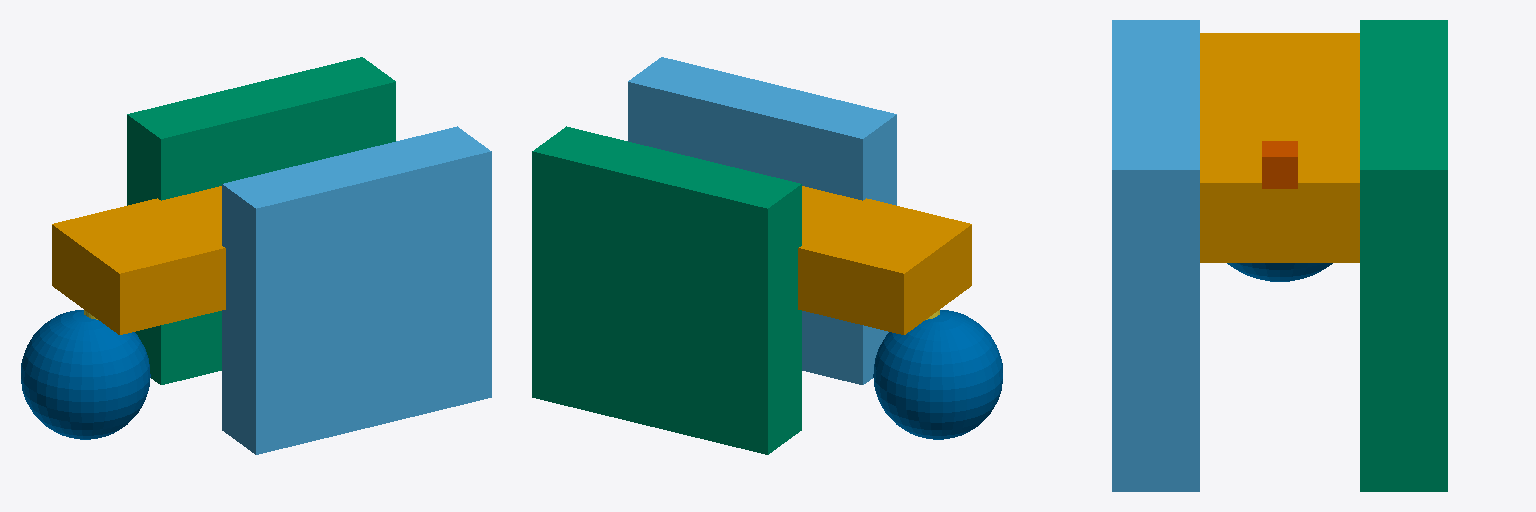
The robot description file, URDF, robot "drivebot":
<?xml version="1.0"?>
<robot name="drivebot">

  <link name="chassis">
    <visual>
      <geometry>
        <box size="1 0.5 0.25"/>
      </geometry>
      <origin rpy="0 0 0" xyz="0 0 0"/>
    </visual>
    <collision>
      <geometry>
        <box size="1 0.5 0.25"/>
      </geometry>
      <origin rpy="0 0 0" xyz="0 0 0"/>
    </collision>
    <inertial>
      <mass value="2"/>
      <inertia ixx="0.0104" ixy="0.0" ixz="0.0" iyy="0.04166" iyz="0.0" izz="0.05208"/>
      <origin rpy="0 0 0" xyz="0 0 0"/>
    </inertial>
  </link>  

  <link name="right_wheel">
    <visual>
      <geometry>
        <box size="1 1 0.25"/>
      </geometry>
      <origin rpy="1.57075 0 0" xyz="0 -0.1 0"/>
    </visual>
    <collision>
      <geometry>
        <box size="1 1 0.25"/>
      </geometry>
      <origin rpy="1.57075 0 0" xyz="0 -0.1 0"/>
    </collision>
    <inertial>
      <mass value="0.25"/>
      <inertia ixx="0.047375" ixy="0.0" ixz="0.0" iyy="0.011844" iyz="0.0" izz="0.0078125"/> <!-- These inertia values are for a cylinder with radius 0.5 and length 0.2 -->
      <origin rpy="1.57075 0 0" xyz="0 -0.1 0"/>
    </inertial>
  </link>

  <link name="left_wheel">
    <visual>
      <geometry>
        <box size="1 1 0.25"/>
      </geometry>
      <origin rpy="1.57075 0 0" xyz="0 0.1 0"/>
    </visual>
    <collision>
      <geometry>
        <box size="1 1 0.25"/>
      </geometry>
      <origin rpy="1.57075 0 0" xyz="0 0.1 0"/>
    </collision>
    <inertial>
      <mass value="0.25"/>
      <inertia ixx="0.047375" ixy="0.0" ixz="0.0" iyy="0.011844" iyz="0.0" izz="0.0078125"/> <!-- These inertia values are for a cylinder with radius 0.5 and length 0.2 -->
      <origin rpy="1.57075 0 0" xyz="0 0.1 0"/>
    </inertial>
  </link>

  <link name="rear_wheel_support">
    <visual>
      <geometry>
        <cylinder length="0.26" radius="0.05"/>
      </geometry>
      <origin rpy="0 0 0" xyz="0 0 -0.13"/>      
    </visual>
    <collision>
      <geometry>
        <cylinder length="0.26" radius="0.05"/>
      </geometry>
      <origin rpy="0 0 0" xyz="0 0 -0.13"/>      
    </collision>
    <inertial>
      <mass value="0.01"/>
      <inertia ixx="0.00003958" ixy="0.0" ixz="0.0" iyy="0.00003958" iyz="0.0" izz="0.0000125"/>
      <origin rpy="0 0 0" xyz="0 0 -0.13"/>       
    </inertial>
  </link>

  <link name="rear_wheel">
    <visual>
      <geometry>
        <sphere radius="0.24"/>
      </geometry>
      <origin rpy="0 0 0" xyz="0 0 0"/>
    </visual>
    <collision>
      <geometry>
        <sphere radius="0.20"/>
      </geometry>
      <origin rpy="0 0 0" xyz="0 0 0"/>      
    </collision>
    <inertial>
      <mass value="0.30"/>
      <inertia ixx="0.005" ixy="0.0" ixz="0.0" iyy="0.005" iyz="0.0" izz="0.005"/>
      <origin rpy="0 0 0" xyz="0 0 0"/>
    </inertial> 
  </link>

  <link name="camera_link">
    <visual>
      <geometry>
        <box size="0.1016 0.1016 0.1016"/>
      </geometry>
      <origin rpy="0 0 0" xyz="0 0 0.0508"/>
    </visual>
    <collision>
      <geometry>
        <box size="0.1016 0.1016 0.1016"/>
      </geometry>
      <origin rpy="0 0 0" xyz="0 0 0.0508"/>
    </collision>
    <inertial>
      <mass value="0.113398093"/>
      <inertia ixx="0.0001950931" ixy="0.0" ixz="0.0" iyy="0.0001950931" iyz="0.0" izz="0.0001950931"/>
      <origin rpy="0 0 0" xyz="0 0 0.0508"/>
    </inertial>
  </link>  


  <joint name="chassis_to_right_wheel" type="continuous">
    <parent link="chassis"/>
    <child link="left_wheel"/>
    <origin rpy="0 0 0" xyz="0.45 0.25 -0.125"/>
    <axis xyz="0 1 0"/>
    <limit effort="100" velocity="100"/>
    <dynamics damping="0.0001"/>
  </joint>

  <joint name="chassis_to_left_wheel" type="continuous">
    <parent link="chassis"/>
    <child link="right_wheel"/>
    <origin rpy="0 0 0" xyz="0.45 -0.25 -0.125"/>
    <axis xyz="0 1 0"/>
    <limit effort="100" velocity="100"/>
    <dynamics damping="0.0001"/>
  </joint>

  <joint name="chassis_to_rear_wheel_support" type="continuous">
    <parent link="chassis"/>
    <child link="rear_wheel_support"/>
    <origin rpy="0 0 0" xyz="-0.45 0 -0.125"/>
    <axis xyz="0 0 1"/>
    <limit effort="100" velocity="100"/>
    <dynamics damping="0.0001"/>
  </joint>

  <joint name="rear_wheel_support_to_rear_wheel" type="continuous">
    <parent link="rear_wheel_support"/>
    <child link="rear_wheel"/>
    <origin rpy="0 0 0" xyz="-0.05 0 -0.26"/>
    <axis xyz="0 1 0"/>
    <limit effort="100" velocity="100"/>
    <dynamics damping="0.01"/>
  </joint>

  <joint name="chassis_to_camera_link" type="fixed">
    <parent link="chassis"/>
    <child link="camera_link"/>
    <origin rpy="0 0 0" xyz="0.49 0 0.125"/>
  </joint>

  <gazebo reference="chassis">
    <material>Gazebo/Black</material>
  </gazebo>

  <gazebo reference="right_wheel">
    <mu1>1.0</mu1>
    <mu2>1.0</mu2>
    <kp>10000000.0</kp>
    <kd>1.0</kd>
    <material>Gazebo/Orange</material>
  </gazebo>

  <gazebo reference="left_wheel">
    <mu1>1.0</mu1>
    <mu2>1.0</mu2>
    <kp>10000000.0</kp>
    <kd>1.0</kd>
    <material>Gazebo/Orange</material>
  </gazebo>

  <gazebo reference="rear_wheel_support">
    <material>Gazebo/White</material>
  </gazebo>

  <gazebo reference="rear_wheel">
    <mu1>1.0</mu1>
    <mu2>1.0</mu2>
    <kp>10000000.0</kp>
    <kd>1.0</kd>
    <material>Gazebo/Orange</material>
  </gazebo>

  <gazebo reference="camera_link">
    <material>Gazebo/Red</material>
    <sensor type="camera" name="camera1">
      <update_rate>30.0</update_rate>
      <camera name="head">
        <horizontal_fov>1.3962634</horizontal_fov>
        <image>
          <width>800</width>
          <height>800</height>
          <format>R8G8B8</format>
        </image>
        <clip>
          <near>0.02</near>
          <far>300</far>
        </clip>
        <noise>
          <type>gaussian</type>
          <!-- Noise is sampled independently per pixel on each frame.
               That pixel's noise value is added to each of its color
               channels, which at that point lie in the range [0,1]. -->
          <mean>0.0</mean>
          <stddev>0.007</stddev>
        </noise>
      </camera>
      <plugin name="camera_controller" filename="libgazebo_ros_camera.so">
        <alwaysOn>true</alwaysOn>
        <updateRate>0.0</updateRate>
        <cameraName>drivebot/camera1</cameraName>
        <imageTopicName>image_raw</imageTopicName>
        <cameraInfoTopicName>camera_info</cameraInfoTopicName>
        <frameName>camera_link</frameName>
        <hackBaseline>0.07</hackBaseline>
        <distortionK1>0.0</distortionK1>
        <distortionK2>0.0</distortionK2>
        <distortionK3>0.0</distortionK3>
        <distortionT1>0.0</distortionT1>
        <distortionT2>0.0</distortionT2>
      </plugin>
    </sensor>
  </gazebo>

  <gazebo>
    <plugin name="front_wheel_differential_drive_controller" filename="libgazebo_ros_diff_drive.so">
      <legacyMode>true</legacyMode>
      <alwaysOn>true</alwaysOn>
      <updateRate>100</updateRate>
      <leftJoint>chassis_to_left_wheel</leftJoint>
      <rightJoint>chassis_to_right_wheel</rightJoint>
      <wheelSeparation>0.5</wheelSeparation>
      <wheelDiameter>0.25</wheelDiameter>
      <torque>20</torque>
      <commandTopic>cmd_vel</commandTopic>
      <odometryTopic>odom</odometryTopic>
      <odometryFrame>odom</odometryFrame>
      <robotBaseFrame>chassis</robotBaseFrame>
    </plugin>
  </gazebo>

</robot>

--- What the picture shows (computed from the rendered views, not written in the file) ---
Views: 3 orthographic renders of the robot side by side, from view 1: azimuth 30°, elevation 25°; view 2: azimuth 150°, elevation 25°; view 3: azimuth 270°, elevation 25°.
Robot: drivebot — 6 links, 5 joints (4 continuous, 1 fixed); root link chassis; default pose: every joint at zero.
Links seen in each view (by area): view 1: right_wheel, left_wheel, chassis, rear_wheel; view 2: left_wheel, right_wheel, chassis, rear_wheel; view 3: right_wheel, left_wheel, chassis, camera_link, rear_wheel.
Boxes of the visible links, x1=… form: right_wheel: x1=222, y1=126, x2=491, y2=454; left_wheel: x1=127, y1=57, x2=395, y2=384; chassis: x1=52, y1=186, x2=225, y2=334; rear_wheel: x1=21, y1=310, x2=150, y2=439; left_wheel: x1=532, y1=126, x2=801, y2=454; right_wheel: x1=628, y1=57, x2=896, y2=384; chassis: x1=798, y1=186, x2=971, y2=334; rear_wheel: x1=873, y1=310, x2=1002, y2=439; right_wheel: x1=1112, y1=20, x2=1199, y2=491; left_wheel: x1=1360, y1=20, x2=1447, y2=491; chassis: x1=1200, y1=33, x2=1359, y2=262; camera_link: x1=1262, y1=141, x2=1297, y2=188; rear_wheel: x1=1227, y1=263, x2=1332, y2=281.
Bounding box of the posed robot: 1.69 × 0.95 × 1 m (x, y, z).
Geometry: primitives only (box / cylinder / sphere), no mesh files.